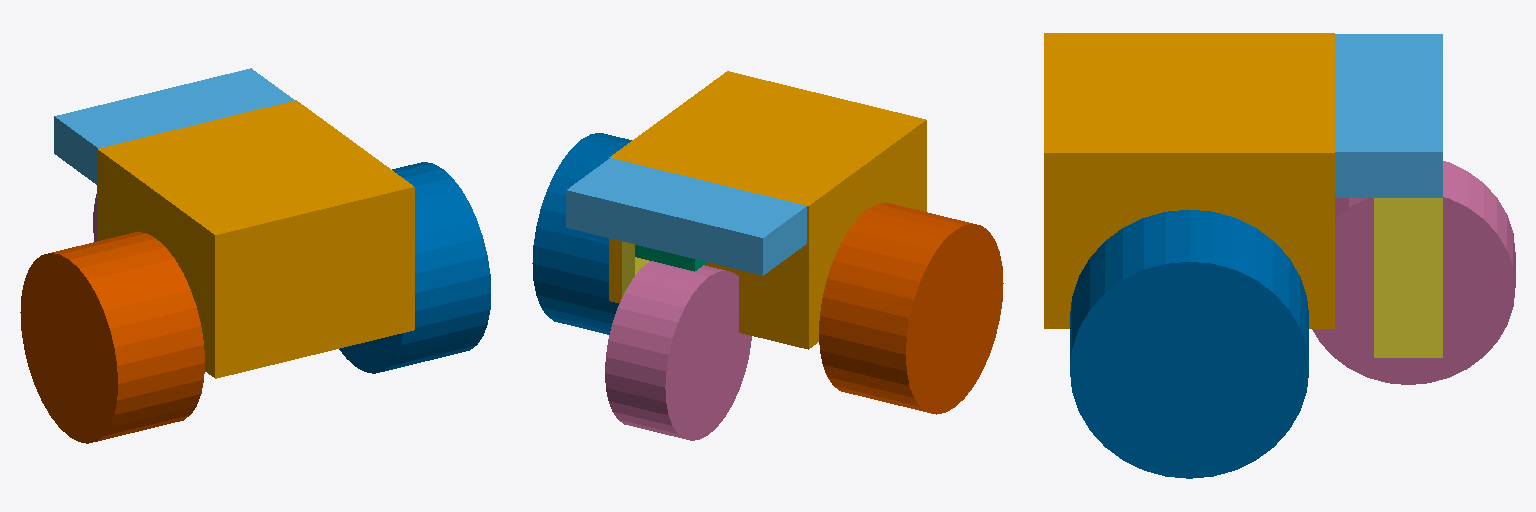
robot.urdf — three_wheels_rover:
<?xml version="1.0"?>
<robot name="three_wheels_rover">
  <link name="base_link">
    <visual>
      <geometry>
        <box size="0.330 0.339 0.227"/>
      </geometry>
    </visual>
    <collision>
      <geometry>
        <box size="0.330 0.339 0.227"/>
      </geometry>
    </collision>
  </link>

  <link name="tail_main">
    <visual>
      <origin xyz="0 0 0"/>
      <geometry>
        <box size="0.326 0.1264 0.0595"/>
      </geometry>
    </visual>
    <collision>
      <geometry>
        <box size="0.326 0.1264 0.0595"/>
      </geometry>
    </collision>
  </link>

  <link name="tail_short">
    <visual>
      <origin xyz="0 0 0"/>
      <geometry>
        <box size="0.10 0.08 0.02"/>
      </geometry>
    </visual>
    <collision>
      <geometry>
        <box size="0.10 0.08 0.02"/>
      </geometry>
    </collision>
  </link>

  <link name="tail_long">
    <visual>
      <origin xyz="0 0 0"/>
      <geometry>
        <box size="0.02 0.08 0.25"/>
      </geometry>
    </visual>
    <collision>
      <geometry>
        <box size="0.02 0.08 0.15"/>
      </geometry>
    </collision>
  </link>

  <joint name="base_to_tail_main" type="fixed">
    <parent link="base_link"/>
    <child link="tail_main"/>
    <origin xyz="0 0.2327 0.08375"/>
  </joint>

  <joint name="tail_main_to_short" type="revolute">
    <parent link="tail_main"/>
    <child link="tail_short"/>
    <axis xyz="0 0 1"/>
    <origin xyz="0 0.0232 -0.0395"/>
    <limit lower="-1.57" upper="1.57" effort="0" velocity="0"/>
  </joint>

  <joint name="tail_short_to_long" type="fixed">
    <parent link="tail_short"/>
    <child link="tail_long"/>
    <origin xyz="0.06 0 -0.115"/>
  </joint>

  <link name="front_right_wheel">
    <visual>
      <origin xyz="0 0 0" rpy="0 1.5707 0"/>
      <geometry>
        <cylinder radius="0.14" length="0.144"/>
      </geometry>
    </visual>
    <collision>
      <geometry>
        <cylinder radius="0.14" length="0.144"/>
      </geometry>
    </collision>
  </link>

  <joint name="base_to_right" type="continuous">
    <parent link="base_link"/>
    <child link="front_right_wheel"/>
    <axis xyz="1 0 0"/>
    <origin xyz="0.237 0 -0.100"/>
  </joint>

  <link name="front_left_wheel">
    <visual>
      <origin xyz="0 0 0" rpy="0 1.5707 0"/>
      <geometry>
        <cylinder radius="0.14" length="0.144"/>
      </geometry>
    </visual>
    <collision>
      <geometry>
        <cylinder radius="0.14" length="0.144"/>
      </geometry>
    </collision>
  </link>

  <joint name="base_to_left" type="continuous">
    <parent link="base_link"/>
    <child link="front_left_wheel"/>
    <axis xyz="1 0 0"/>
    <origin xyz="-0.237 0 -0.100"/>
  </joint>

  <link name="rear_wheel">
    <visual>
      <origin xyz="0 0 0" rpy="0 1.5707 0"/>
      <geometry>
        <cylinder radius="0.125" length="0.1"/>
      </geometry>
    </visual>
    <collision>
      <geometry>
        <cylinder radius="0.125" length="0.1"/>
      </geometry>
    </collision>
  </link> 

  <joint name="tail_to_rear" type="continuous">
    <parent link="tail_long"/>
    <child link="rear_wheel"/>
    <axis xyz="1 0 0"/>
    <origin xyz="-0.06 0 -0.044249"/>
  </joint>
</robot>

--- Facts derived from the render (not from the file) ---
The picture shows the robot from 3 angles, left to right: view 1: azimuth 30°, elevation 25°; view 2: azimuth 150°, elevation 25°; view 3: azimuth 270°, elevation 25°; orthographic projection.
Model three_wheels_rover with 7 links and 6 joints (1 revolute, 3 continuous, 2 fixed), rooted at base_link, posed all joints at 0.
Visible links, largest first — view 1: base_link, front_left_wheel, front_right_wheel, tail_main; view 2: base_link, front_left_wheel, rear_wheel, tail_main, front_right_wheel, tail_short, tail_long; view 3: base_link, front_right_wheel, rear_wheel, tail_main, tail_long.
Link boxes in pixels (box(x1,y1,x2,y2)): base_link: box(97, 100, 414, 378); front_left_wheel: box(20, 232, 204, 443); front_right_wheel: box(339, 162, 490, 373); tail_main: box(54, 68, 294, 184); base_link: box(609, 71, 926, 349); front_left_wheel: box(819, 202, 1003, 414); rear_wheel: box(605, 261, 751, 440); tail_main: box(566, 158, 806, 275); front_right_wheel: box(532, 133, 631, 334); tail_short: box(635, 245, 706, 271); tail_long: box(622, 241, 648, 296); base_link: box(1044, 33, 1334, 328); front_right_wheel: box(1070, 210, 1308, 478); rear_wheel: box(1312, 161, 1515, 384); tail_main: box(1335, 34, 1442, 197); tail_long: box(1374, 198, 1442, 357).
Bounding box of the posed robot: 0.618 × 0.5504 × 0.3535 m (x, y, z).
Geometry: primitives only (box / cylinder / sphere), no mesh files.